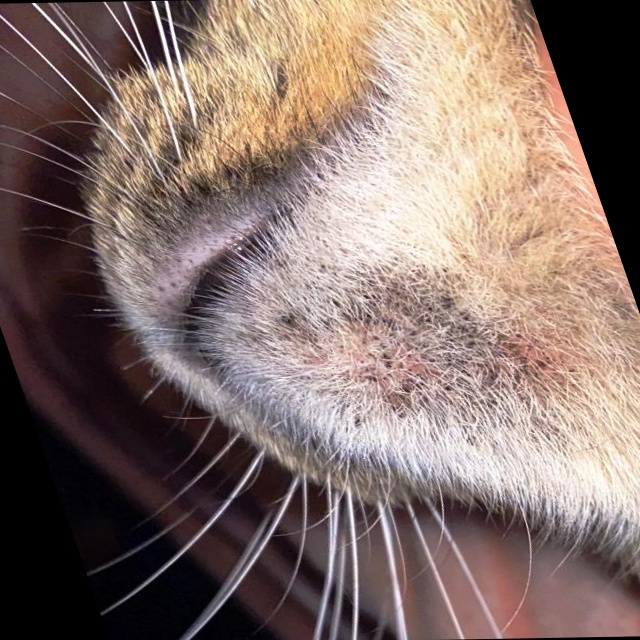acne: (203, 256, 589, 434)
